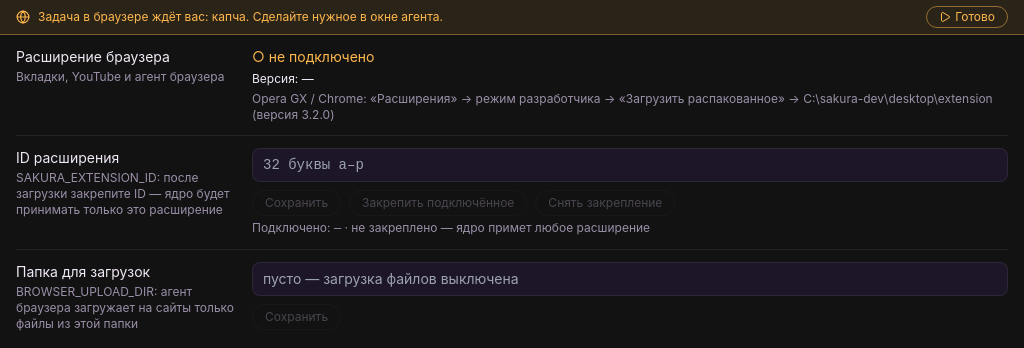
Test: задача в браузере: баннер, пауза с «Готово» → browser_resume, конец — баннер скрыт
The width and height of the screenshot is (1024, 348).
Expected: the message named "Сакура работает в браузере" is shown, [0, 0, 1023, 35]
Expected: the message labelled "Задача в браузере ждёт" shows "капча", [205, 9, 246, 24]
Click the button "Готово" at (967, 17), box [926, 6, 1008, 28]
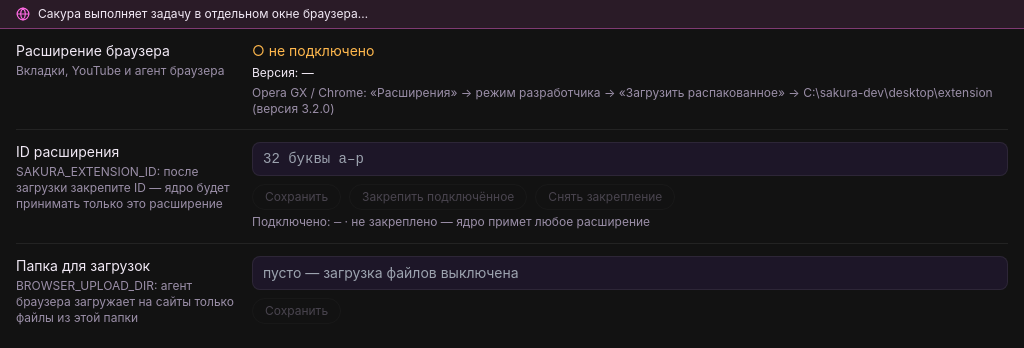
Now the element named "Сакура работает в браузере" is shown, box [0, 0, 1023, 29]
